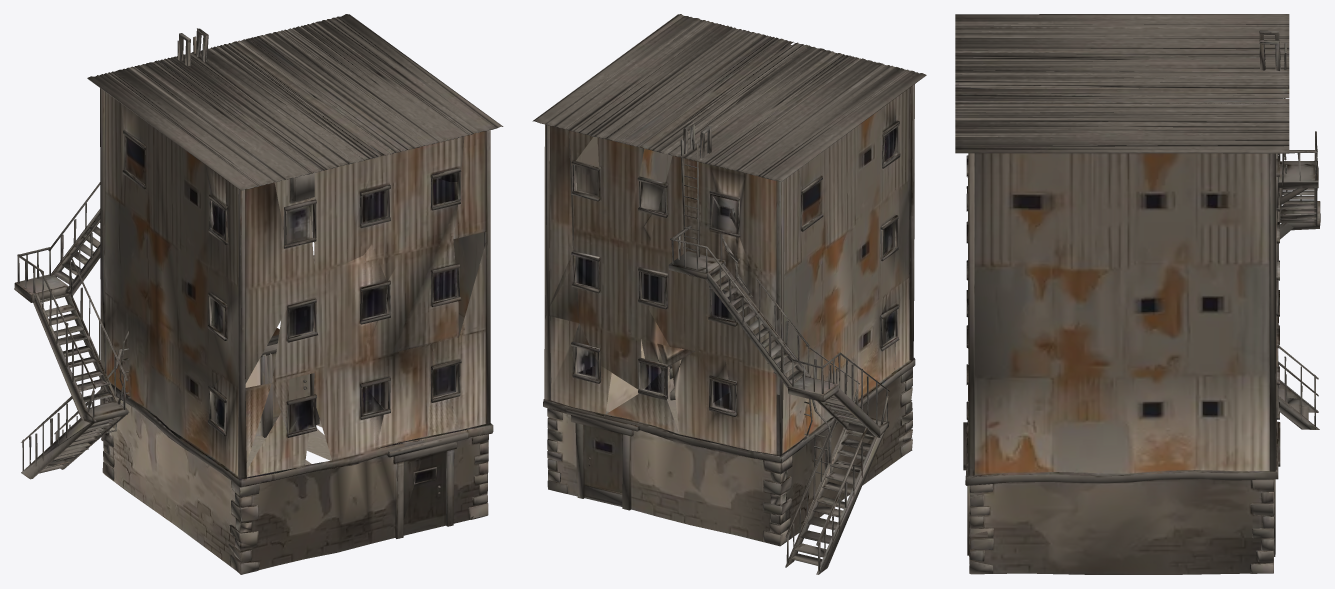
Rendered from hostel.glb.
The picture shows the model from 3 angles, left to right: view 1: azimuth 30°, elevation 25°; view 2: azimuth 150°, elevation 25°; view 3: azimuth 270°, elevation 25°; orthographic projection. The views are drawn at different scales.
Bounding box in the file's own units: 0.7622 × 0.9517 × 0.6909.
Materials: 1 (1 with a texture image).
